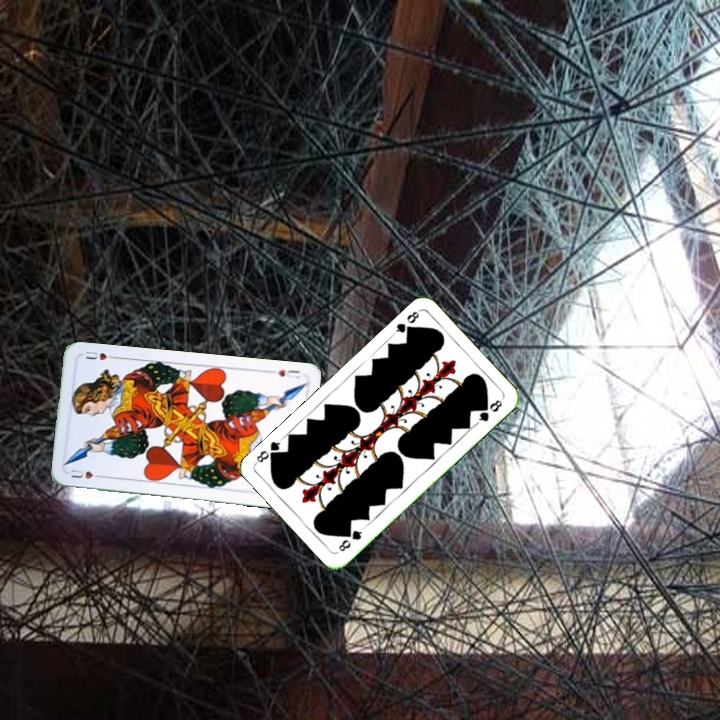G8: (389, 306, 422, 338), (334, 524, 366, 554)
HU: (67, 465, 106, 481), (273, 365, 302, 381)
